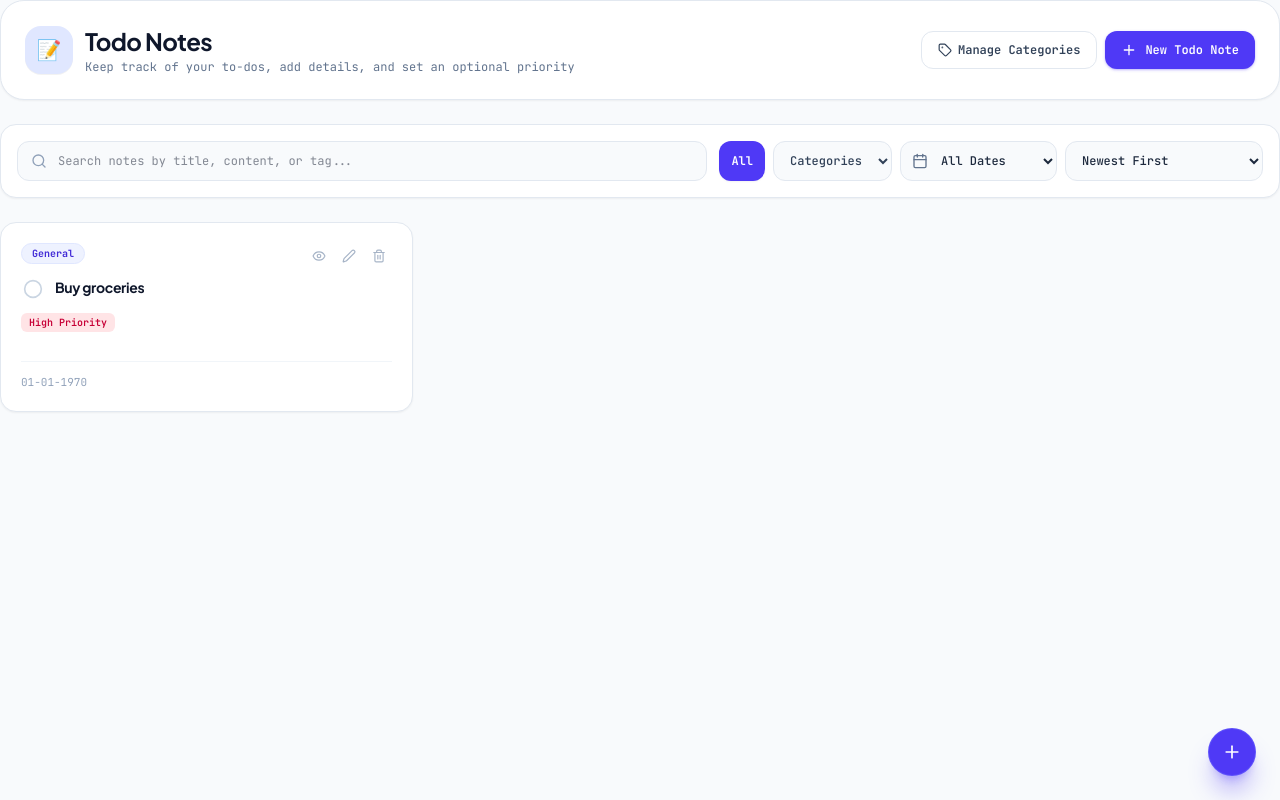
Test: edits and clears optional priority
This screenshot has width=1280, height=800.
Check: the text "high priority" is shown, box [21, 313, 115, 332]
Click the button titled "Edit note": (349, 256) [336, 243, 362, 269]
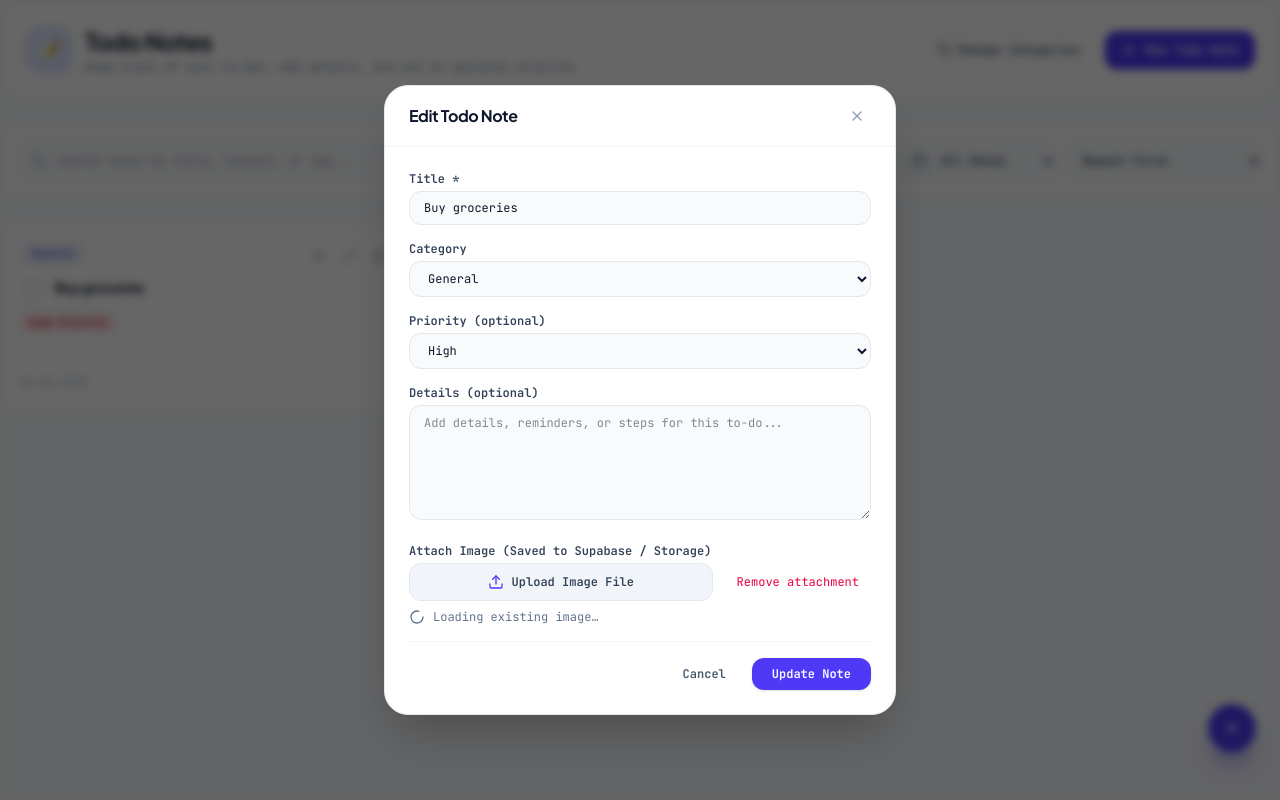
Check: the dropdown labelled "Priority (optional)" shows "High"
Select "None" in the dropdown labelled "Priority (optional)": (640, 351) [409, 333, 871, 369]
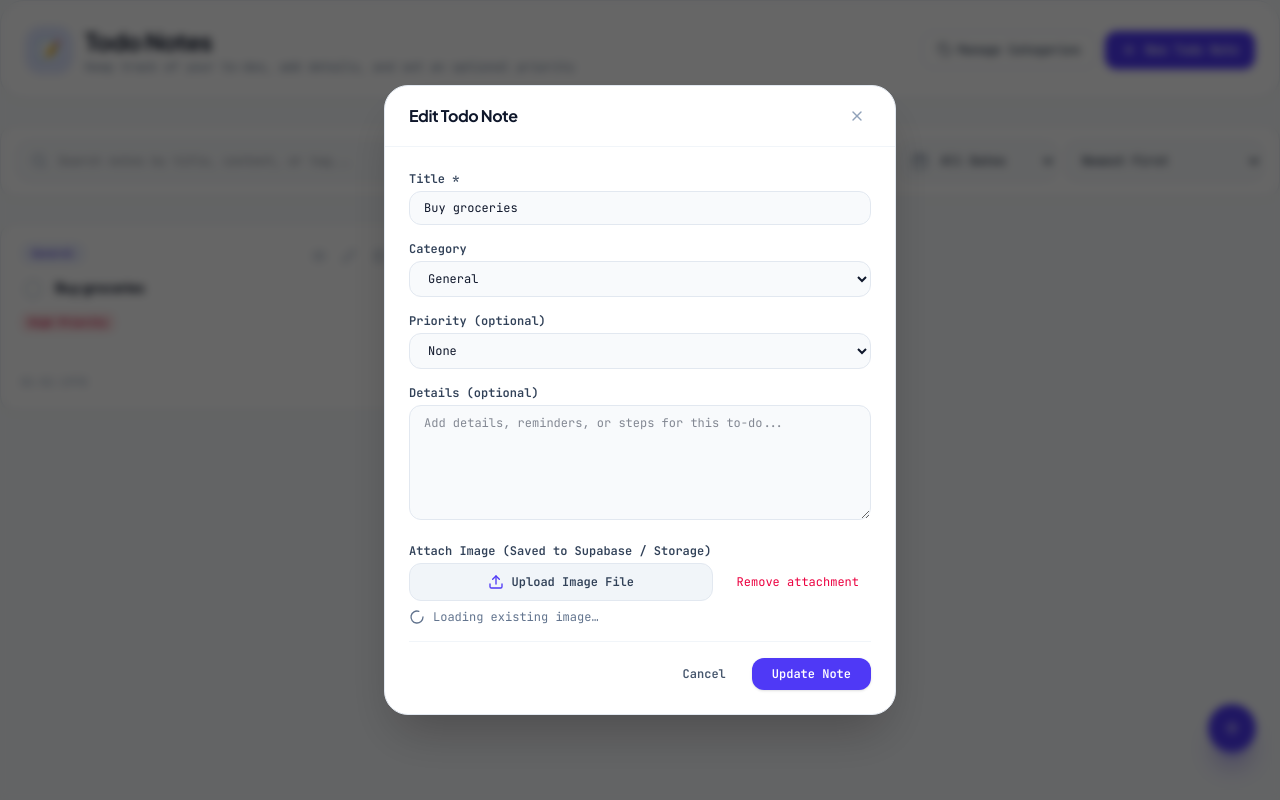
Click the button "Update Note": (811, 674) [752, 658, 871, 690]
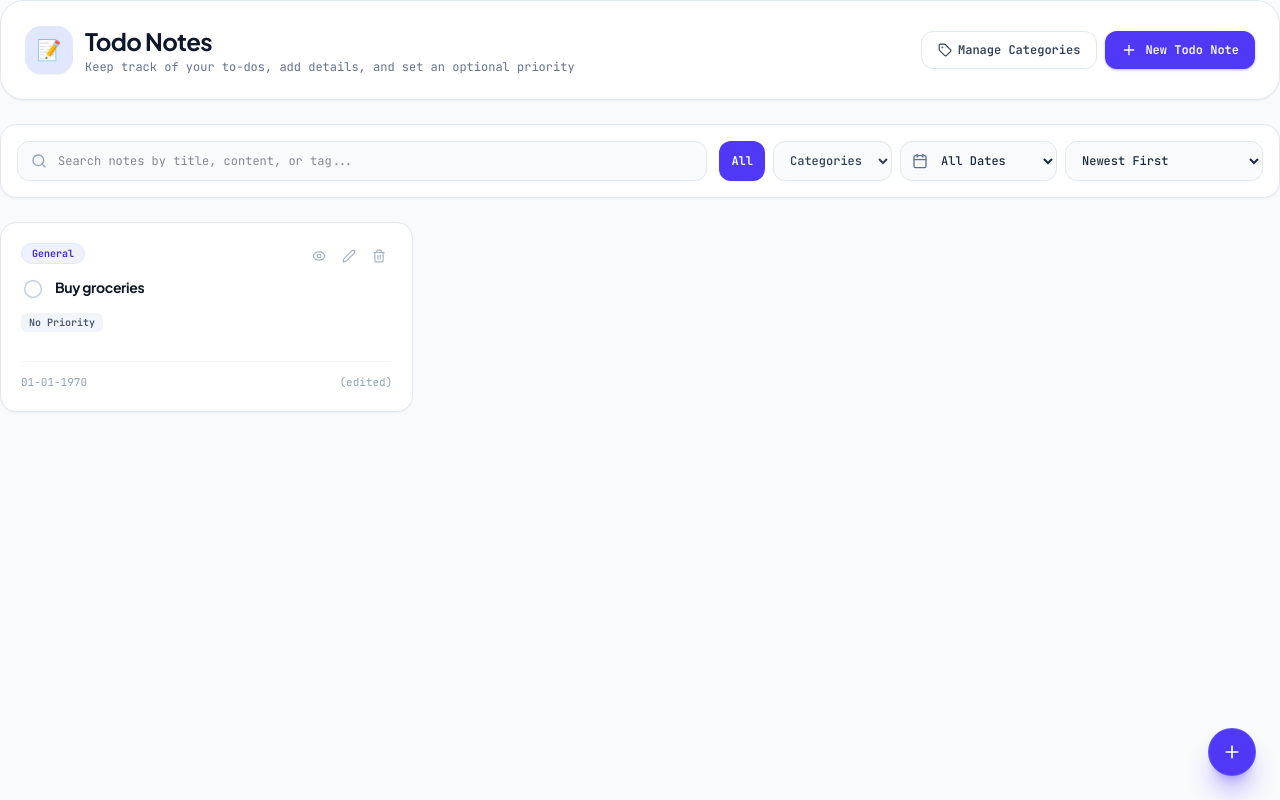
Check: the text "high priority" is gone
